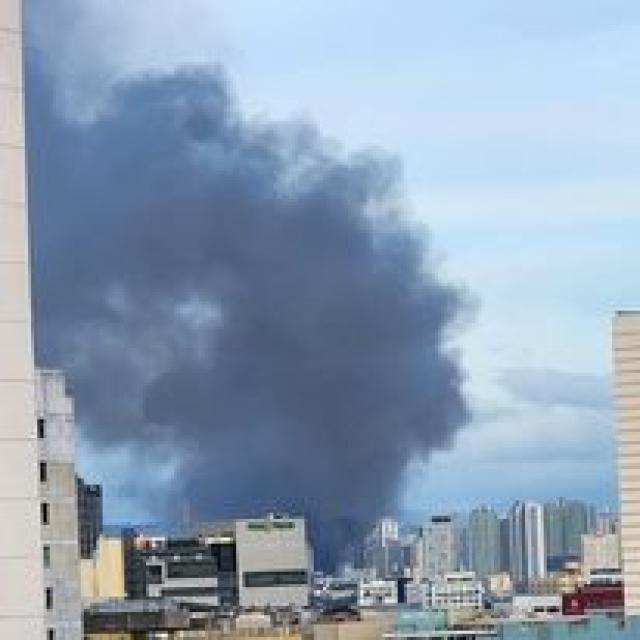Smoke: (122, 188, 460, 496), (34, 2, 306, 366)
